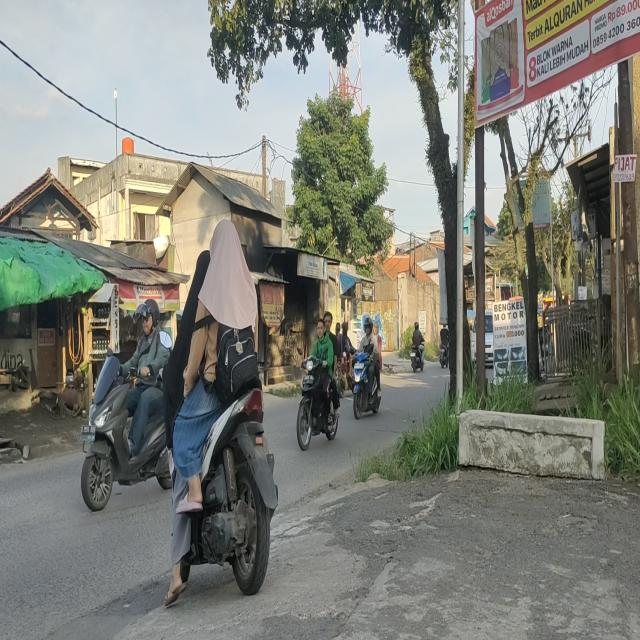helmet: (141, 297, 160, 337), (364, 317, 373, 336), (414, 320, 420, 330)
no-helmet: (209, 220, 242, 268), (194, 248, 212, 291), (316, 318, 326, 339), (324, 311, 333, 334), (335, 322, 341, 336), (374, 321, 379, 336), (342, 322, 348, 334)
